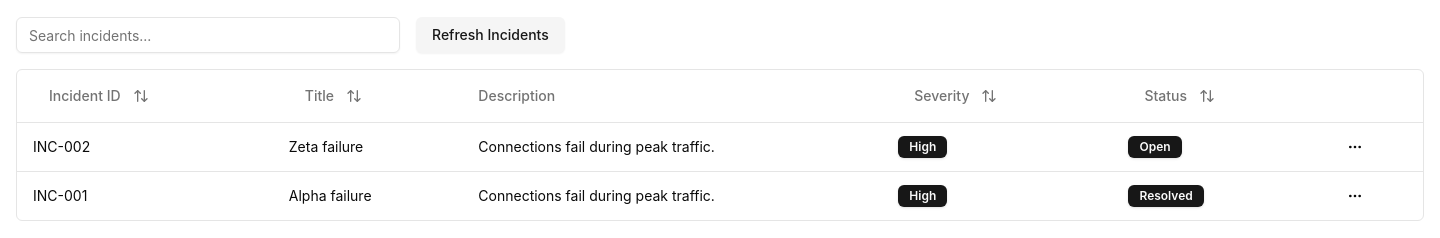
Scenario: dependency migration behavior › table sorting and searching work with the new table feature API
Click the button "Title": [333, 96] box [289, 78, 378, 114]
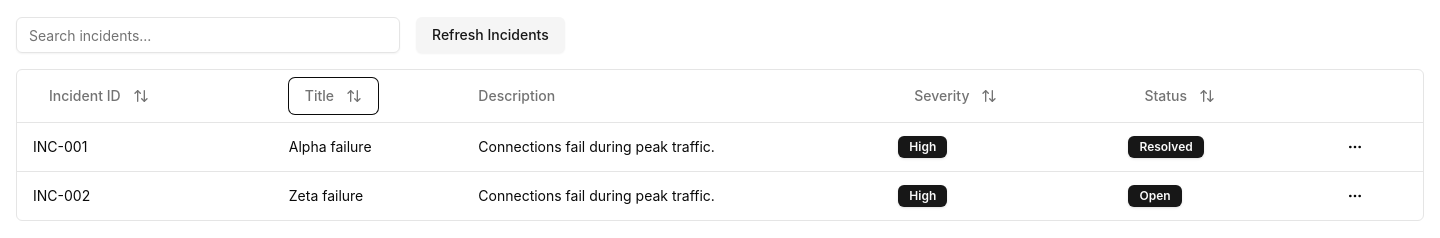
Check: the row that starts with "INC-001" shows "Alpha failure", box [289, 138, 372, 155]
Click the button "Title": [333, 96] box [289, 78, 378, 114]
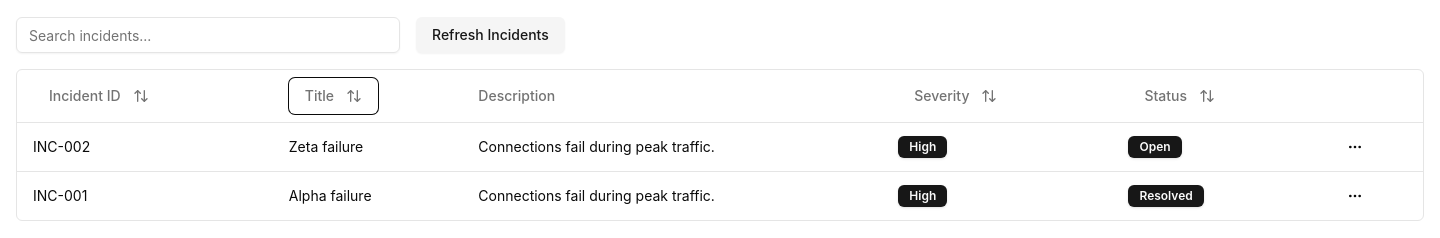
Check: the row that starts with "INC-002" shows "Zeta failure", box [289, 138, 363, 155]
In the field with placeholder "Search incidents...": [208, 35] box [16, 17, 400, 53], type "alpha"
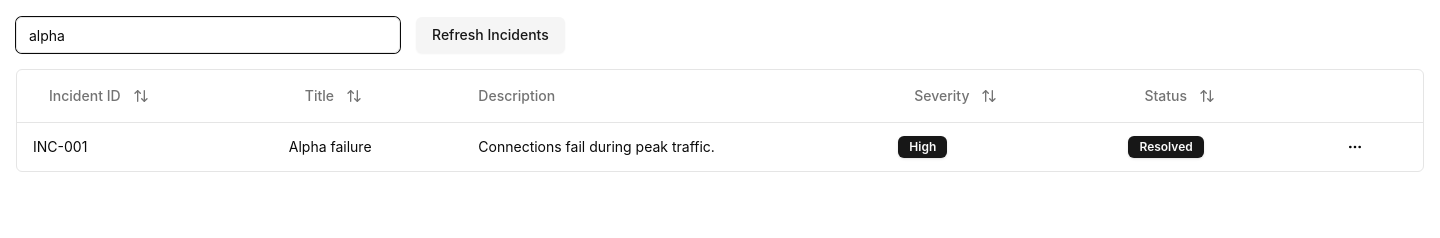
Check: the number of rows is 2, box [17, 70, 1423, 122]; [17, 122, 1423, 171]
Check: the text "Zeta failure" is gone
